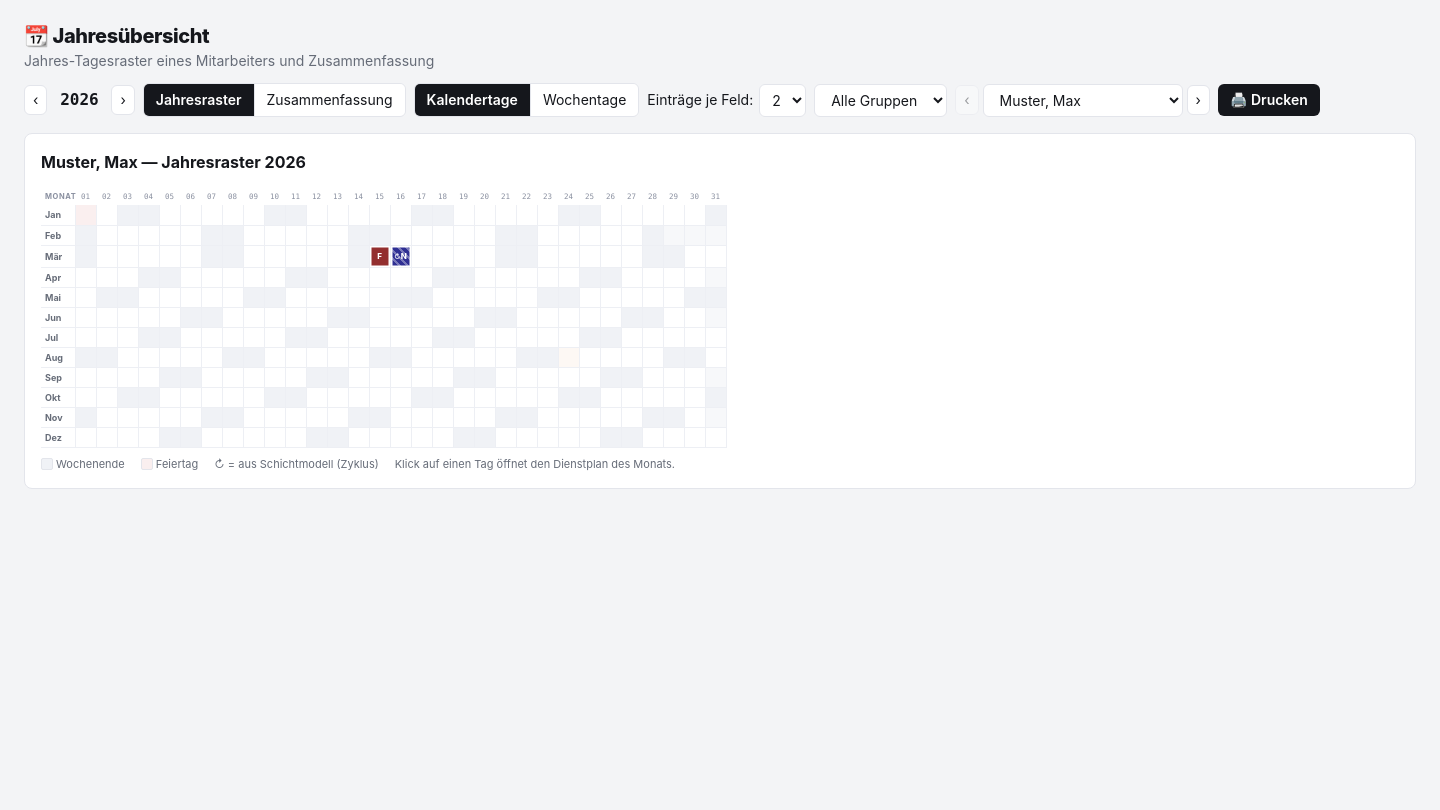
Test case: Jahresübersicht — Jahresraster (V-8, Spec 4.4) › Modus-Toggle: Zusammenfassung zeigt die Aggregat-Ansicht (kein Feature-Verlust)
The width and height of the screenshot is (1440, 810).
Expected: the table with test id "jahresraster" is shown, [41,190,726,448]
Click the button "Zusammenfassung" at (329, 100), box [254,84,404,116]
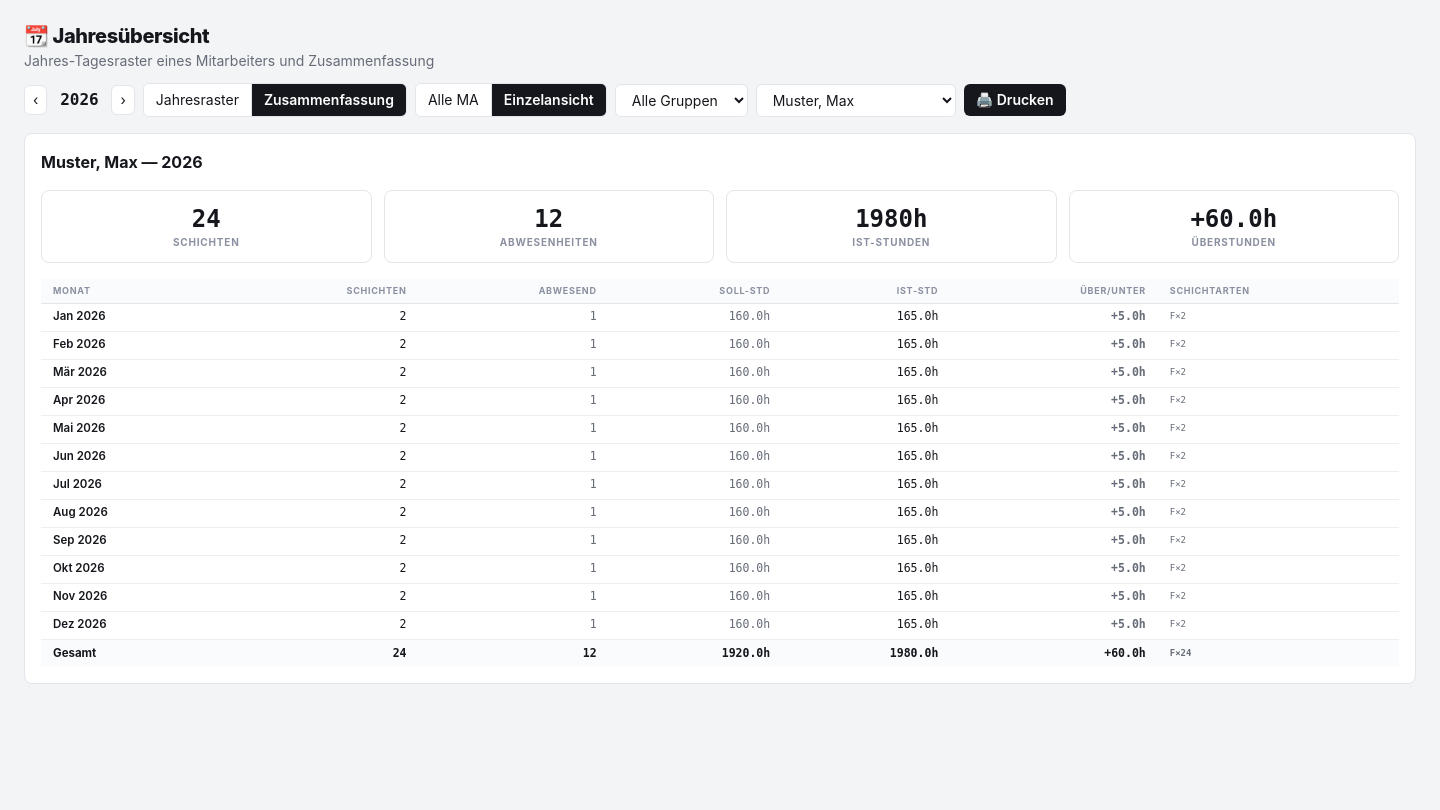
Expected: the text "Ist-Stunden" is shown, [852,236,930,248]
Expected: the text "Überstunden" is shown, [1192,236,1276,248]
Expected: the table with test id "jahresraster" is gone
zurück zum Raster
Click the button "Jahresraster" at (197, 100), box [144,84,251,116]
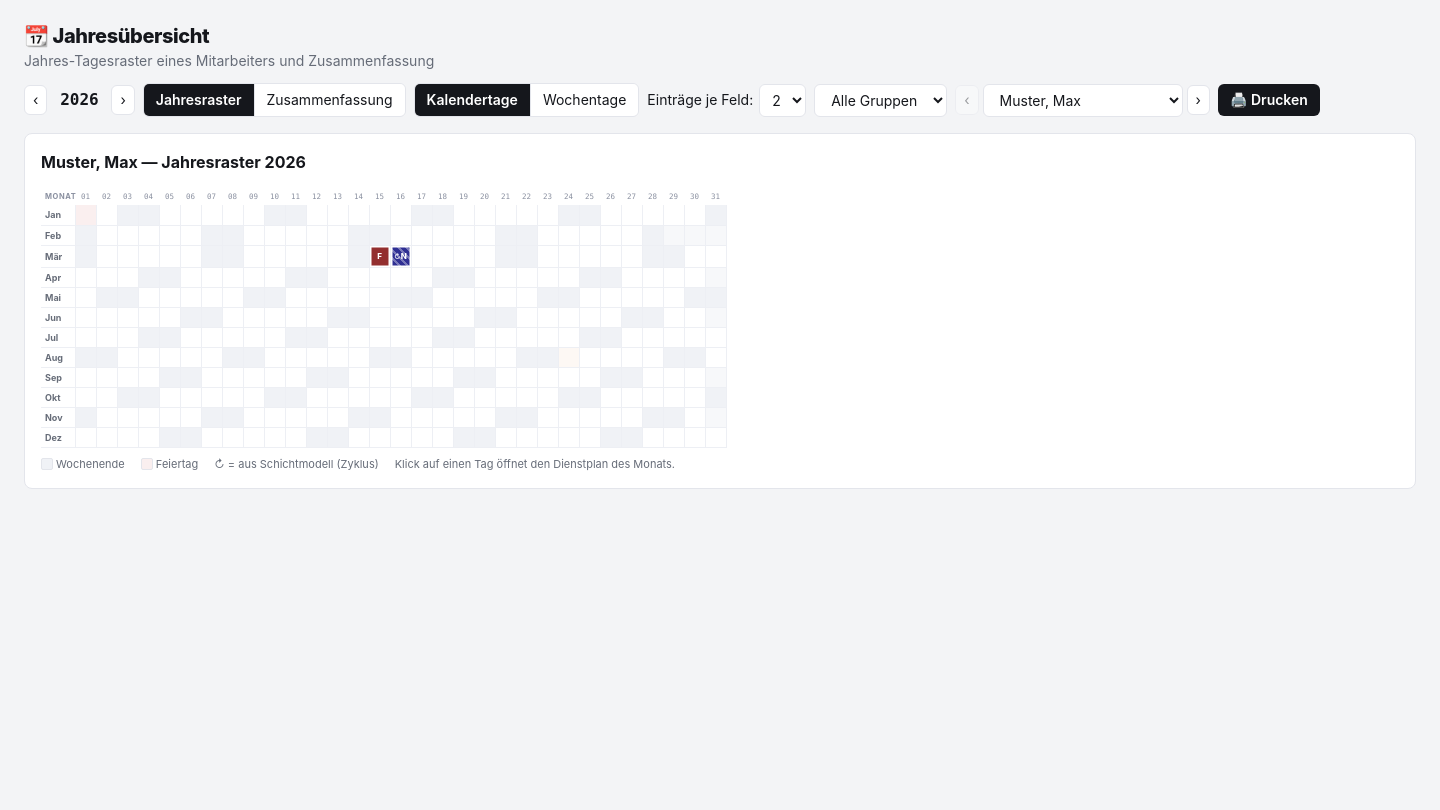
Expected: the table with test id "jahresraster" is shown, [41,190,726,448]
